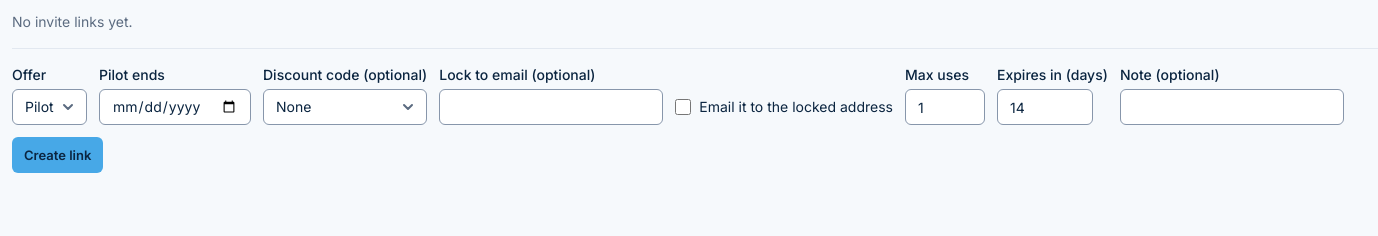
Test: InviteLinks › shows the new link once, in a copy box with the one-time warning
The width and height of the screenshot is (1378, 236).
Select "Trial" in the dropdown labelled "Offer". click: (50, 107)
box: [12,89,87,125]
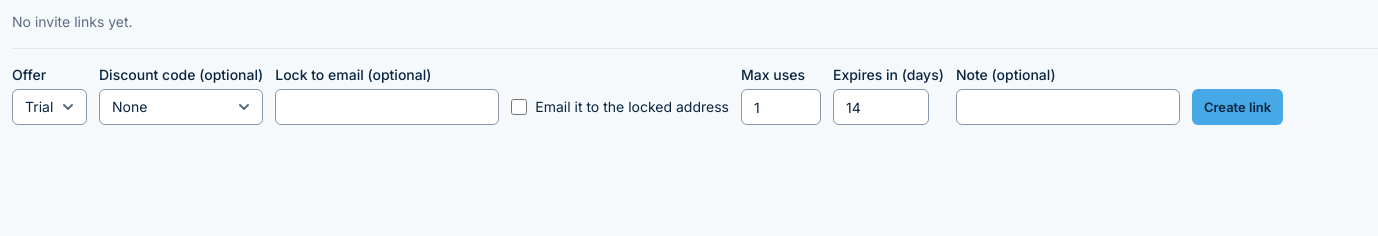
Click the button "Create link". click: click(1238, 107)
box: [1192,89,1283,125]
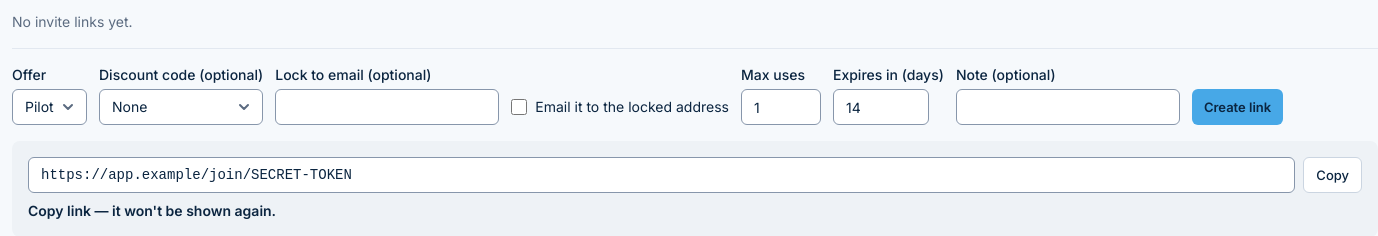
Check: the text "Copy link — it won't be shown again." is shown, box [28,202,276,219]
Check: the field named "New invite link" holds "https://app.example/join/SECRET-TOKEN", box [28,157,1295,193]
Check: the button "Copy" is shown, box [1303,157,1362,193]
